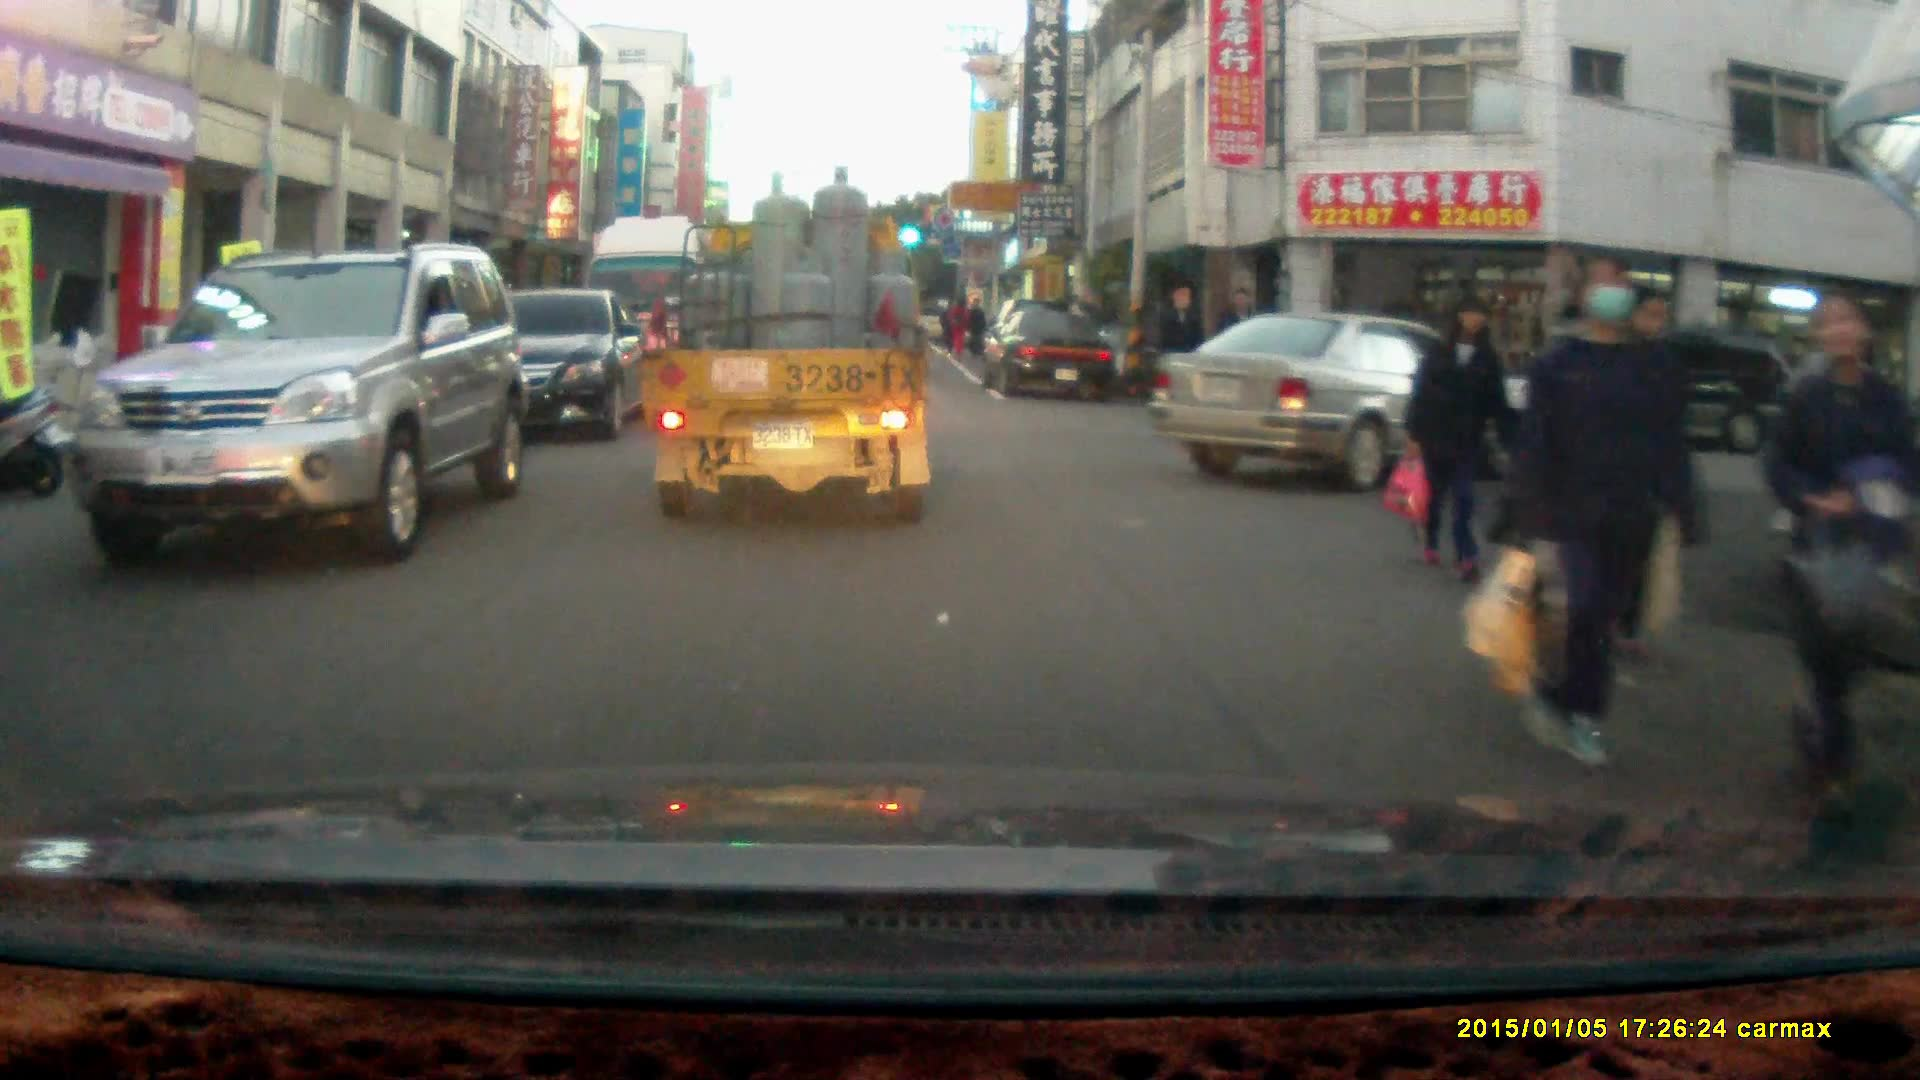pedestrian: (1509, 250, 1704, 765), (1761, 281, 1902, 814), (1402, 288, 1513, 589), (1149, 278, 1204, 447)
vehicle: (61, 240, 525, 563), (641, 161, 934, 524), (1153, 309, 1554, 492), (428, 284, 643, 437), (582, 214, 745, 403), (982, 300, 1120, 397)
